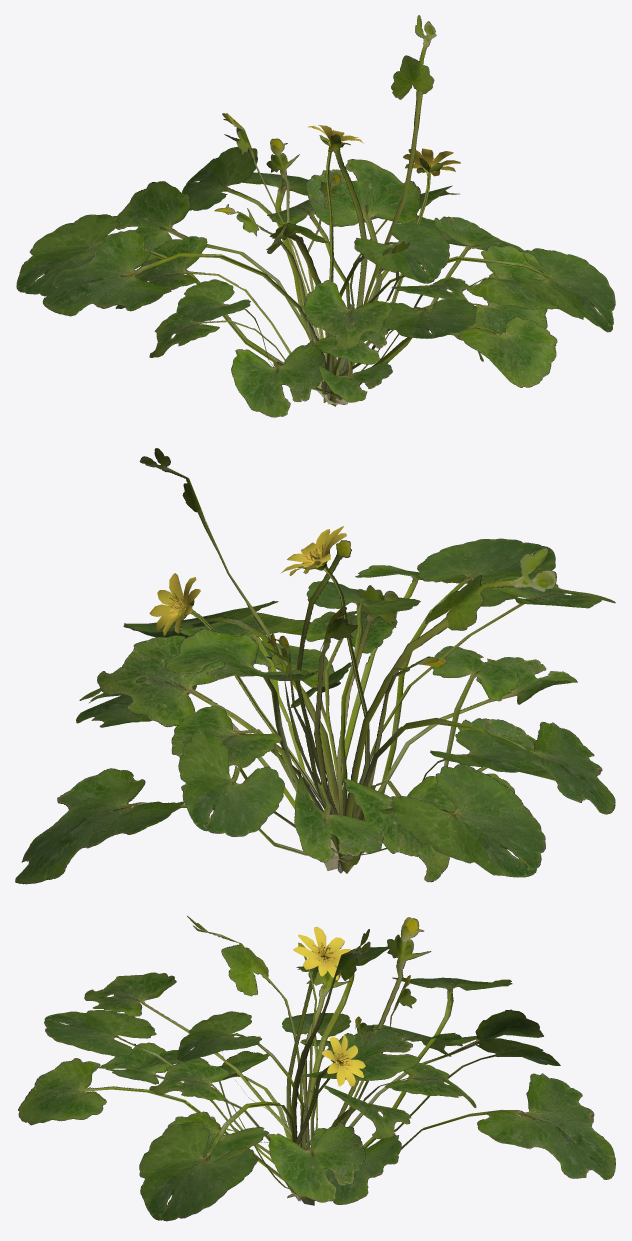
File: ph-celandine_01-lod.glb
3 views of the same model, one above another, from view 1: azimuth 30°, elevation 25°; view 2: azimuth 150°, elevation 25°; view 3: azimuth 270°, elevation 25° (orthographic). The views are drawn at different scales.
Visible parts, largest first — view 1: b, a, d, e; view 2: b, d, a, e; view 3: b, a, d, e.
Part boxes in pixels (<box>): b: <box>16,143,557,417</box>; a: <box>42,15,615,406</box>; d: <box>115,125,558,402</box>; e: <box>149,138,547,404</box>; b: <box>15,540,615,884</box>; d: <box>149,526,555,882</box>; a: <box>76,448,615,873</box>; e: <box>97,585,520,860</box>; b: <box>18,942,615,1202</box>; a: <box>99,916,543,1221</box>; d: <box>44,926,476,1198</box>; e: <box>139,975,560,1188</box>.
Size of the model in its own units: 0.2757 by 0.1858 by 0.3067.
1 material, 1 textured.
